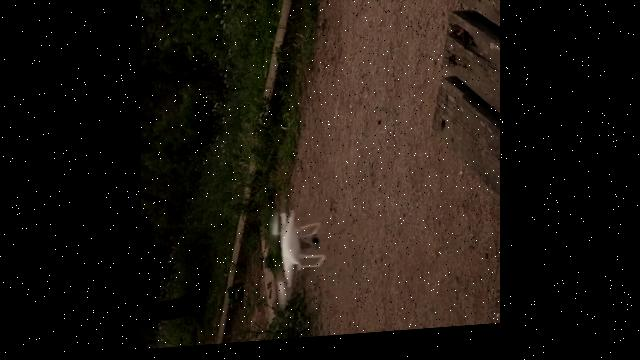drone: (268, 206, 322, 313)
